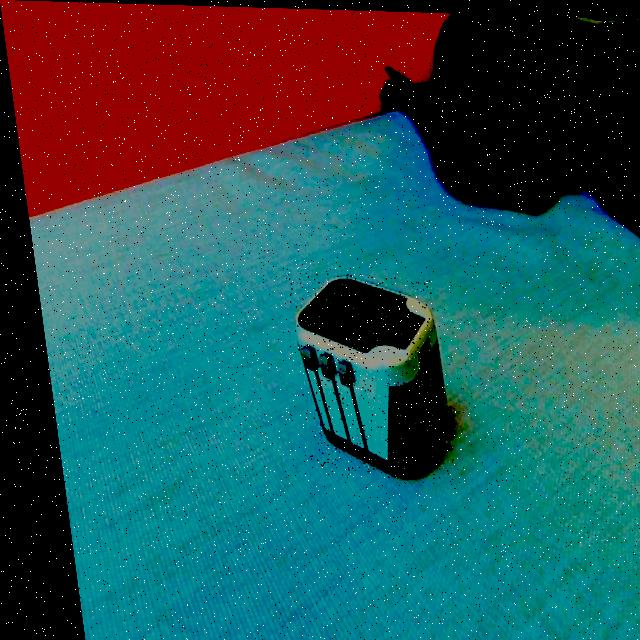adapter: (279, 271, 444, 477)
